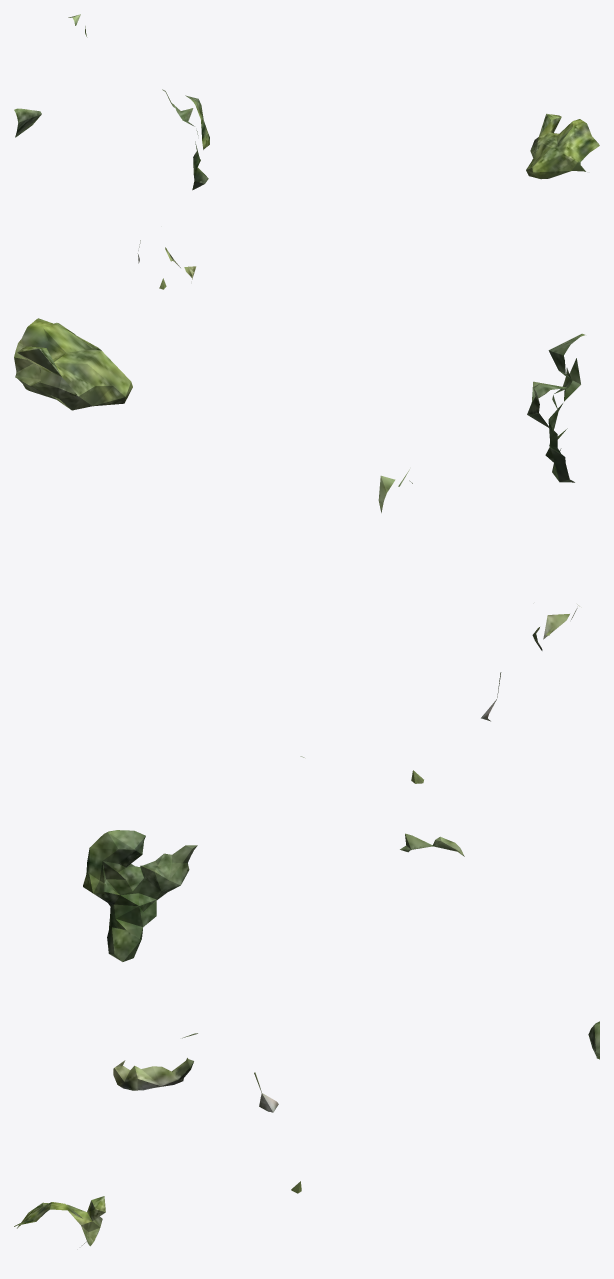
3 views of the same model, one above another, from view 1: azimuth 30°, elevation 25°; view 2: azimuth 150°, elevation 25°; view 3: azimuth 270°, elevation 25° (orthographic). The views are drawn at different scales.
Bounding box in the file's own units: 26.11 × 16.51 × 26.11.
Materials: 1 (1 with a texture image).
